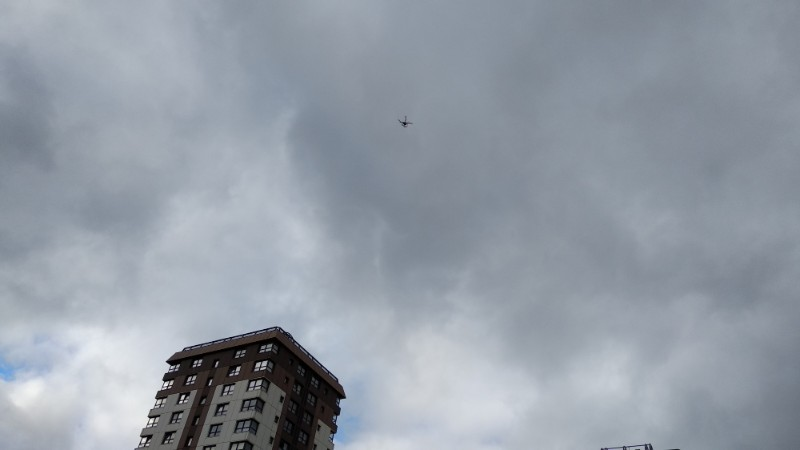drone: (398, 117, 413, 128)
